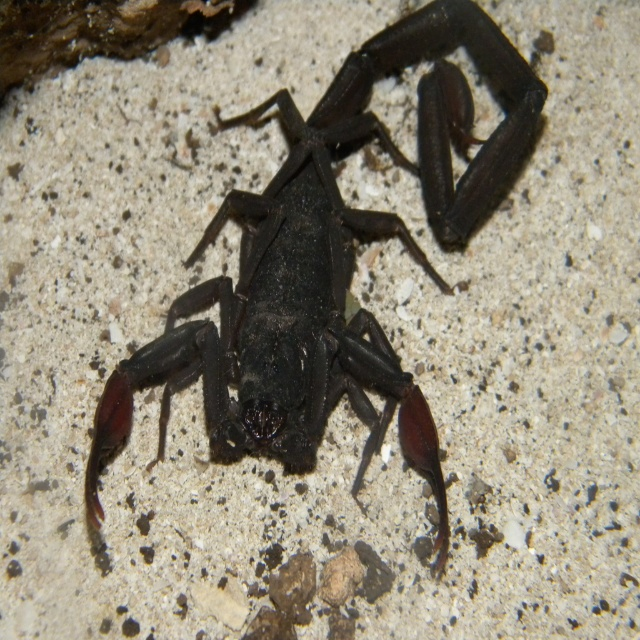Scorpion: (80, 0, 552, 589)
